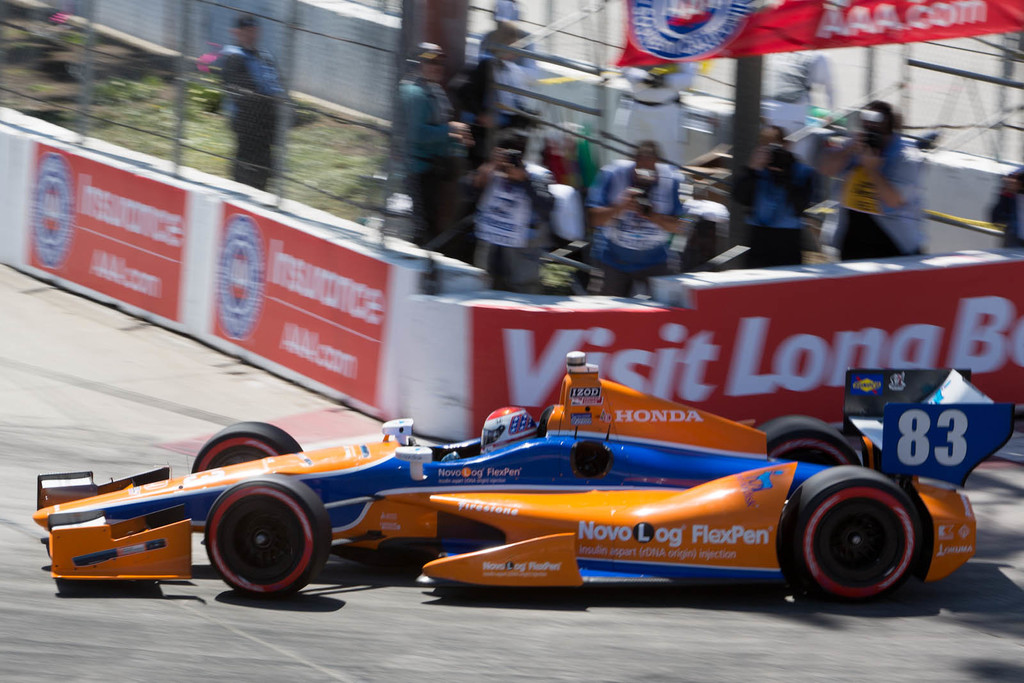Car: (31, 351, 1014, 604)
